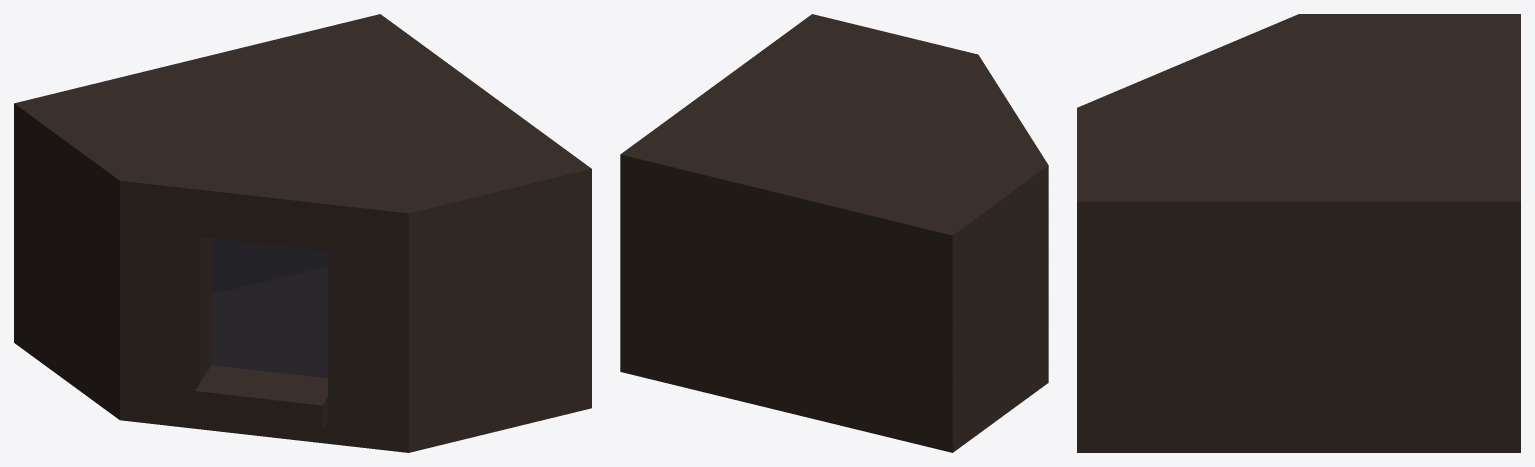
The model's file is modularBuildings_039.obj.
3 renders of one model, left to right at view 1: azimuth 30°, elevation 25°; view 2: azimuth 150°, elevation 25°; view 3: azimuth 270°, elevation 25°, orthographic. The views are drawn at different scales.
Visible parts, largest first — view 1: Mesh1 Group1 Model; view 2: Mesh1 Group1 Model; view 3: Mesh1 Group1 Model.
Boxes of the visible parts, x1,y1,x2,y2 form: Mesh1 Group1 Model: (14, 14, 591, 452); Mesh1 Group1 Model: (620, 14, 1048, 452); Mesh1 Group1 Model: (1077, 14, 1520, 452).
Size of the model in its own units: 1 by 0.625 by 1.
Materials: 3 (3 with a texture image).
